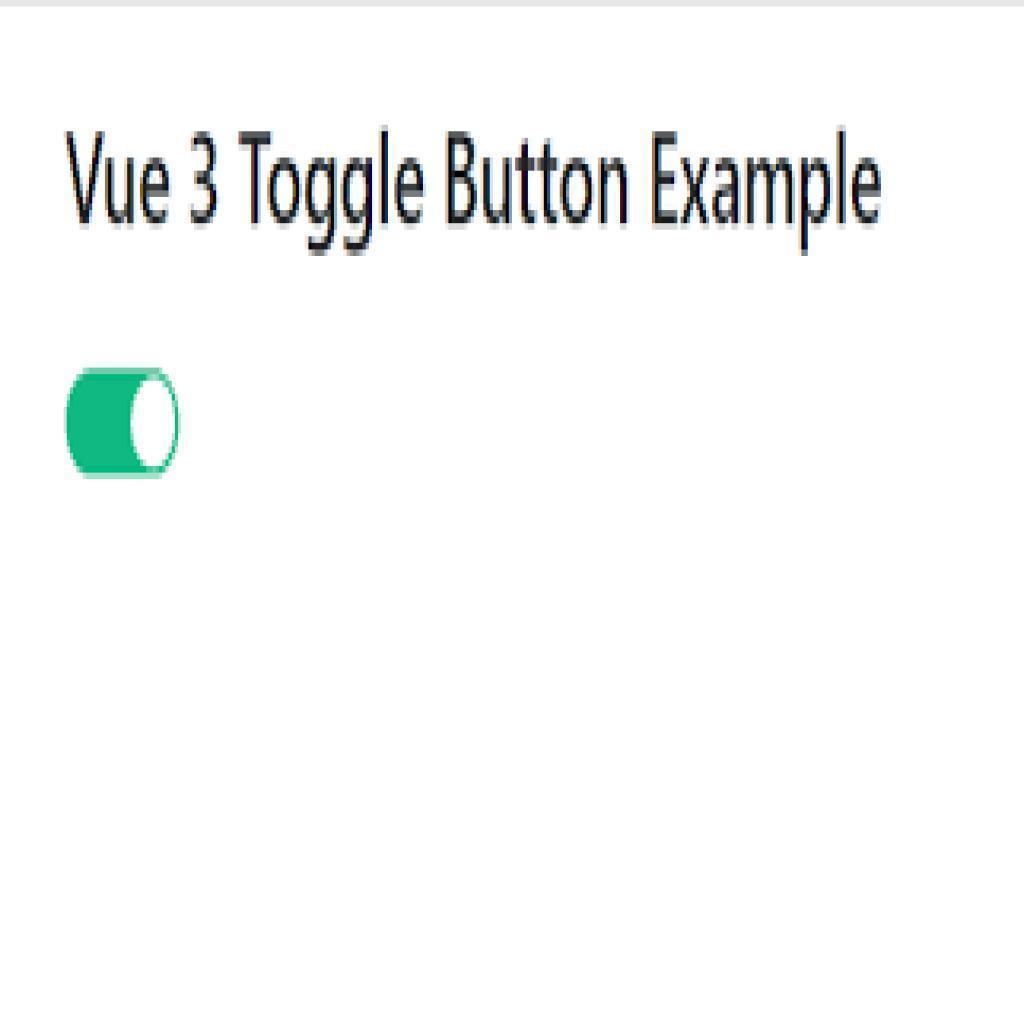label: (57, 121, 889, 261)
switch: (63, 367, 182, 479)
